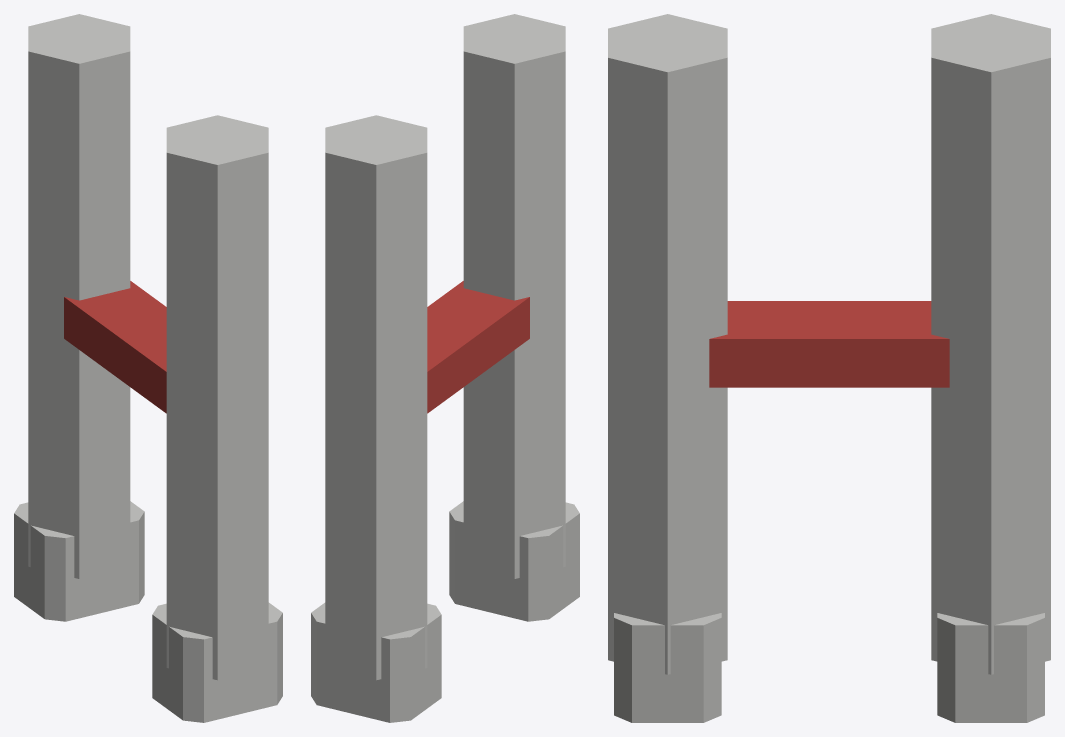
The model's file is tourer_fork_black_lower_lod2.glb.
The picture shows the model from 3 angles, left to right: view 1: azimuth 30°, elevation 25°; view 2: azimuth 150°, elevation 25°; view 3: azimuth 270°, elevation 25°; orthographic projection. The views are drawn at different scales.
Visible parts, largest first — view 1: tourer_fork_black_lower_lod2; view 2: tourer_fork_black_lower_lod2; view 3: tourer_fork_black_lower_lod2.
Boxes of the visible parts, x1=… form: tourer_fork_black_lower_lod2: x1=14, y1=14, x2=282, y2=722; tourer_fork_black_lower_lod2: x1=311, y1=14, x2=579, y2=722; tourer_fork_black_lower_lod2: x1=608, y1=14, x2=1050, y2=722.
Bounding box in the file's own units: 0.0768 × 0.4 × 0.2465.
